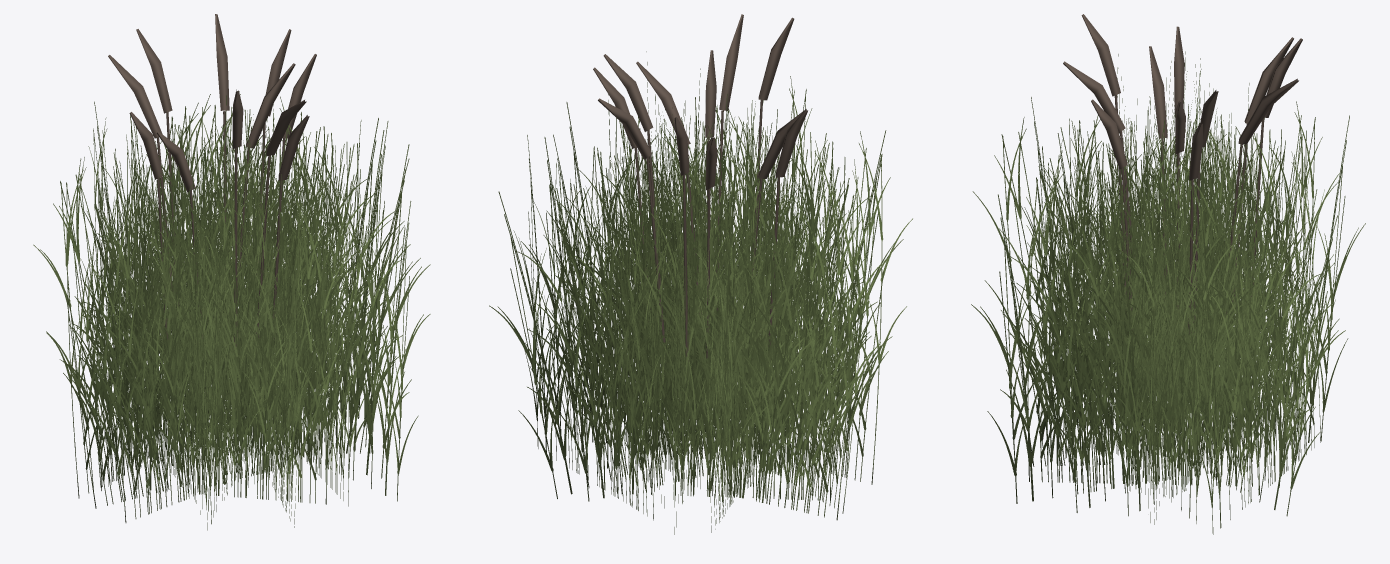
The model's file is reeds.glb.
3 renders of one model, left to right at view 1: azimuth 30°, elevation 25°; view 2: azimuth 150°, elevation 25°; view 3: azimuth 270°, elevation 25°, orthographic. The views are drawn at different scales.
Parts seen in each view (by area): view 1: reeds; view 2: reeds; view 3: reeds.
Boxes of the visible parts, x1,y1,x2,y2 form: reeds: (33,14,430,530); reeds: (489,14,912,534); reeds: (971,14,1365,534).
Size of the model in its own units: 1.66 by 1.74 by 1.5.
Materials: 2 (1 with a texture image).
